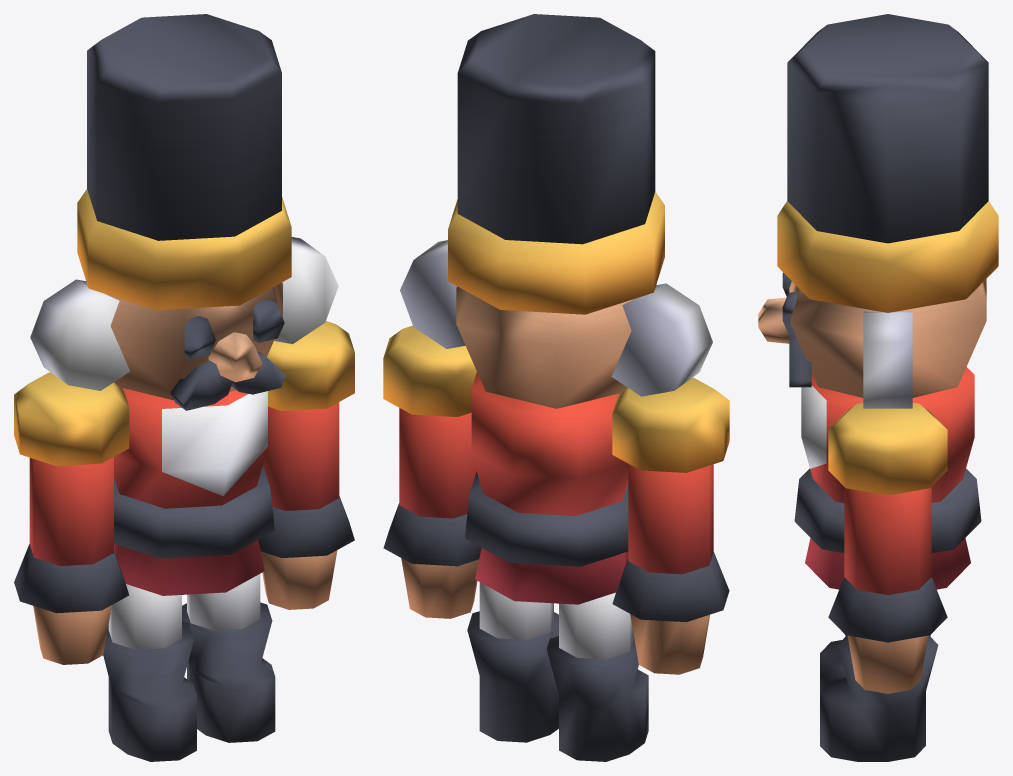
File: nutcracker_lev3.glb
The picture shows the model from 3 angles, left to right: view 1: azimuth 30°, elevation 25°; view 2: azimuth 150°, elevation 25°; view 3: azimuth 270°, elevation 25°; orthographic projection.
Visible parts, largest first — view 1: nutcracker_lev3; view 2: nutcracker_lev3; view 3: nutcracker_lev3.
Boxes of the visible parts, x1,y1,x2,y2 form: nutcracker_lev3: (14,14,354,761); nutcracker_lev3: (383,14,729,761); nutcracker_lev3: (758,14,998,761).
Size of the model in its own units: 3.29 by 6.47 by 2.08.
Materials: 1 (1 with a texture image).
